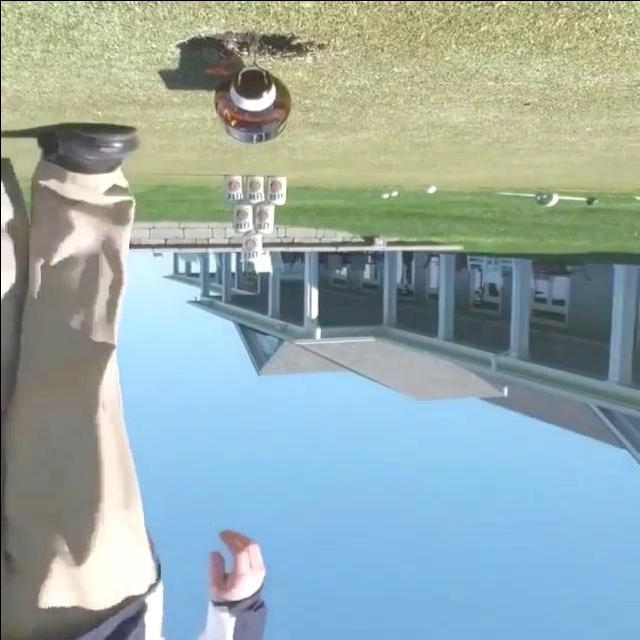golf ball: (426, 185, 435, 192), (381, 193, 388, 198), (391, 190, 397, 194)
